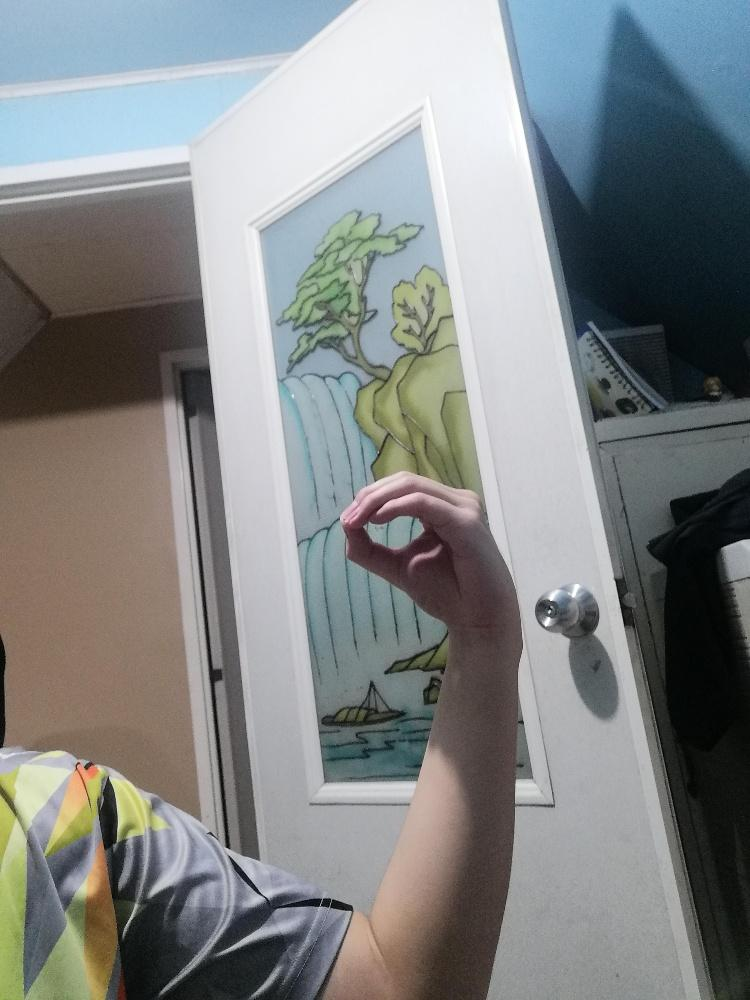o: (339, 469, 517, 634)
